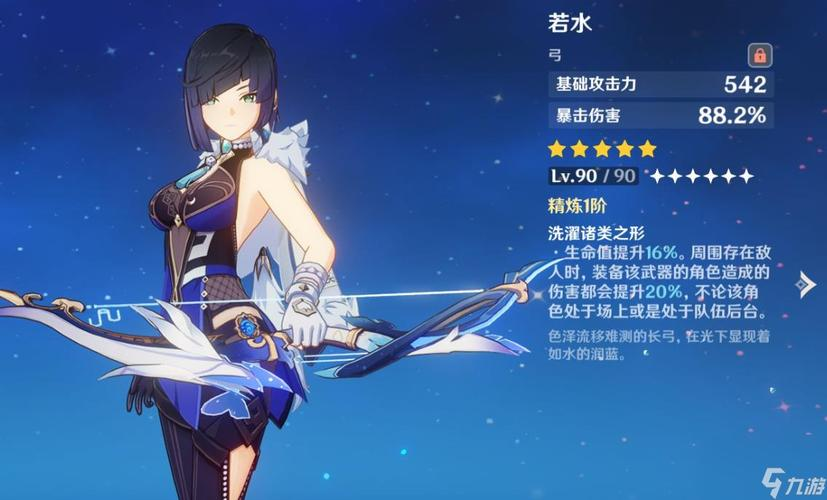夜兰: (118, 18, 345, 500)
